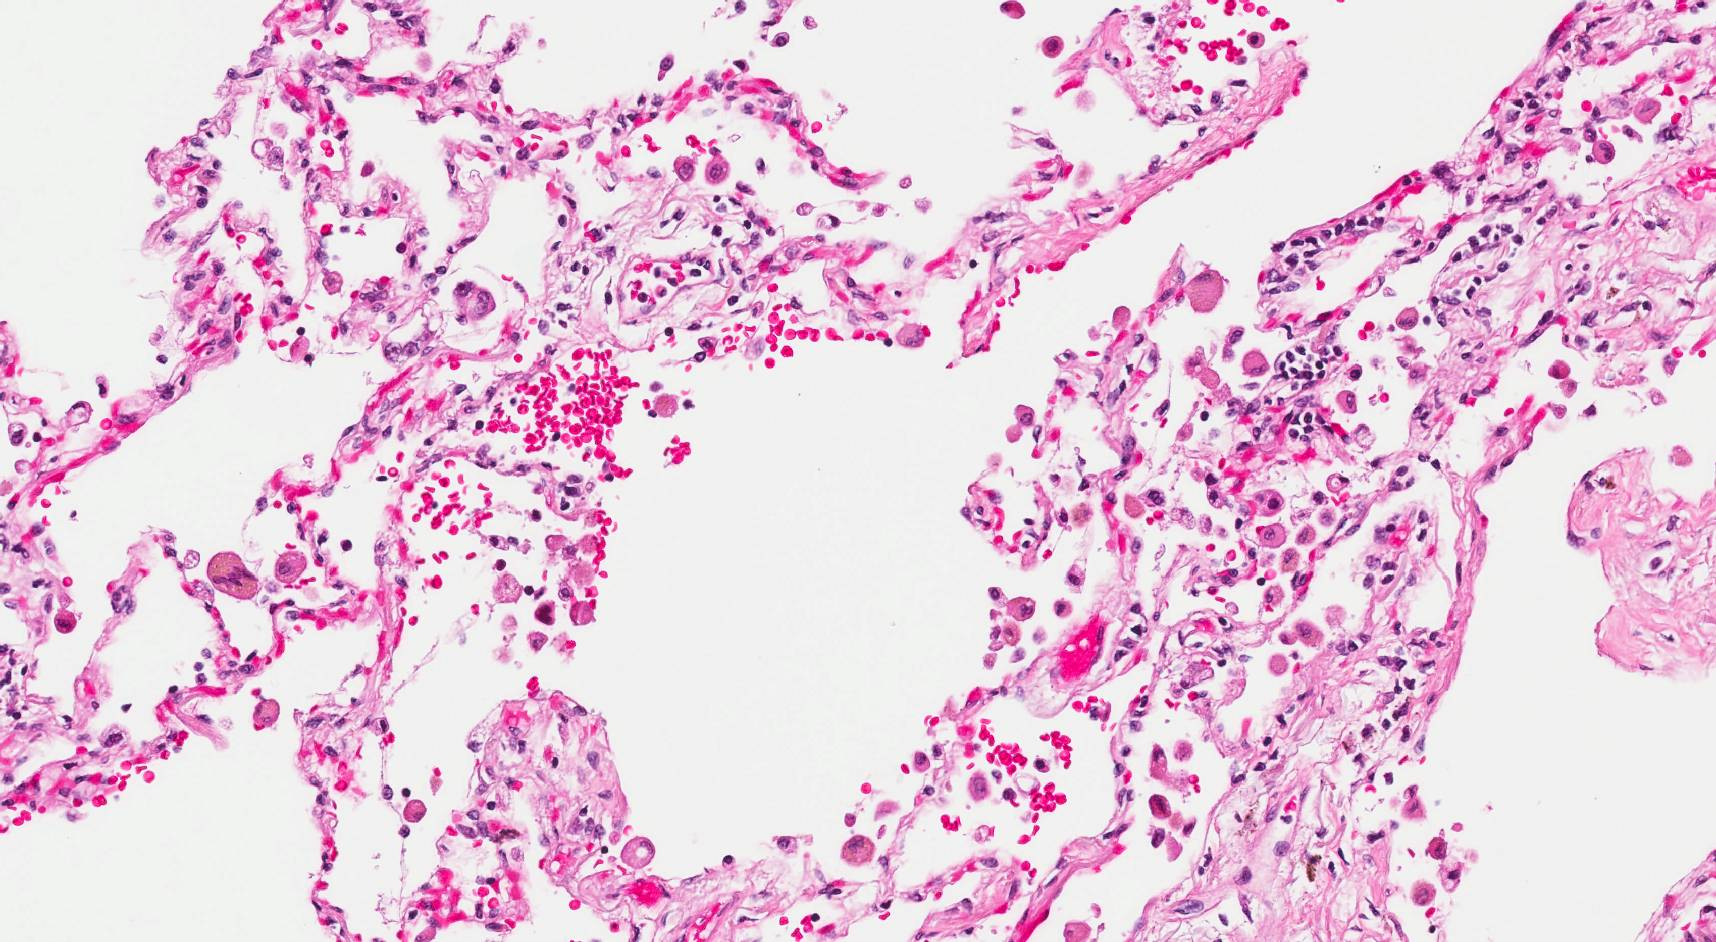stas: (455, 277, 495, 324)
